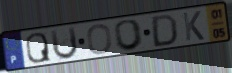D: (151, 13, 179, 49)
K: (181, 10, 206, 43)
O: (113, 18, 145, 52), (86, 23, 114, 56)
Q: (25, 31, 53, 64)
U: (49, 25, 80, 61)
